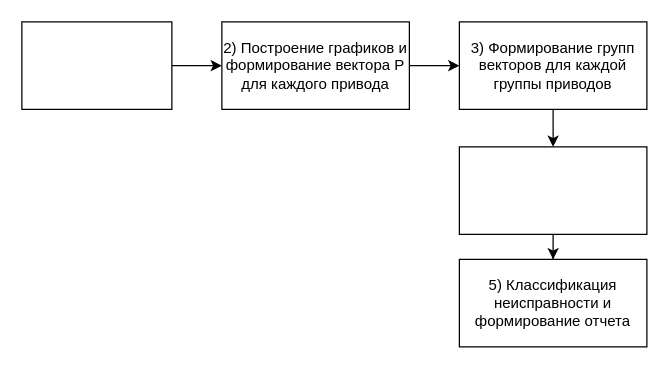
Some shapes in this 669 by 369 pixel diagram are drawn without their labels. The box of each missing label's shape, as (x1, y1, x2, y2) in pixels:
1) Сбор данных (Перемещение каждого привода на +Δθ и -Δθ): (21, 21, 172, 109)
4) Статистический анализ внутри группы: (458, 146, 647, 234)
